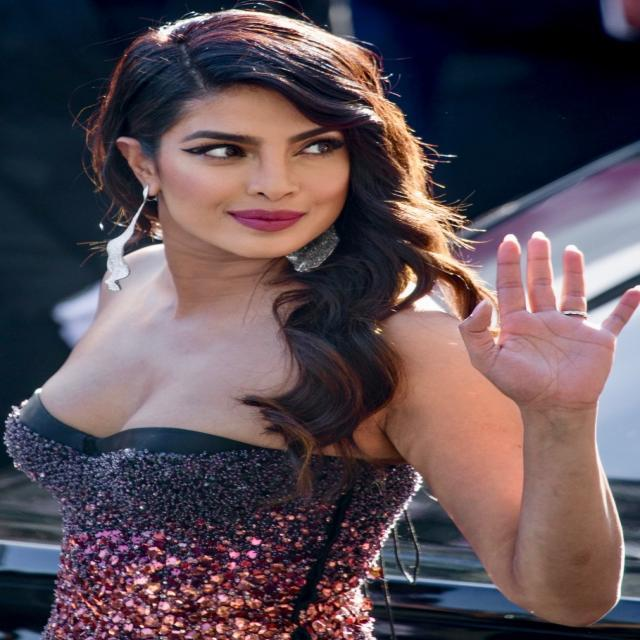Nonhelmet: (111, 0, 405, 260)
